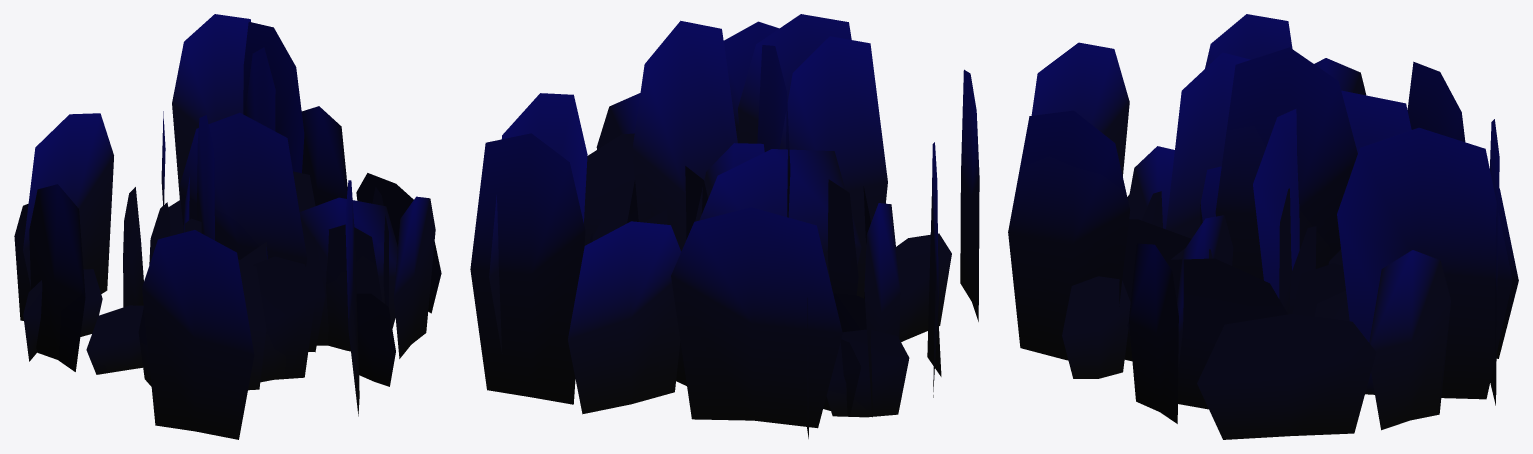
Rendered from SM_Grass_M_Patch_L_01.fbx.
The picture shows the model from 3 angles, left to right: view 1: azimuth 30°, elevation 25°; view 2: azimuth 150°, elevation 25°; view 3: azimuth 270°, elevation 25°; orthographic projection. The views are drawn at different scales.
Visible parts, largest first — view 1: SM_Grass_M_Patch_L_01; view 2: SM_Grass_M_Patch_L_01; view 3: SM_Grass_M_Patch_L_01.
Boxes of the visible parts, x1,y1,x2,y2 form: SM_Grass_M_Patch_L_01: (14,14,441,439); SM_Grass_M_Patch_L_01: (470,14,979,438); SM_Grass_M_Patch_L_01: (1008,14,1518,439).
Size of the model in its own units: 194 by 203 by 139.
